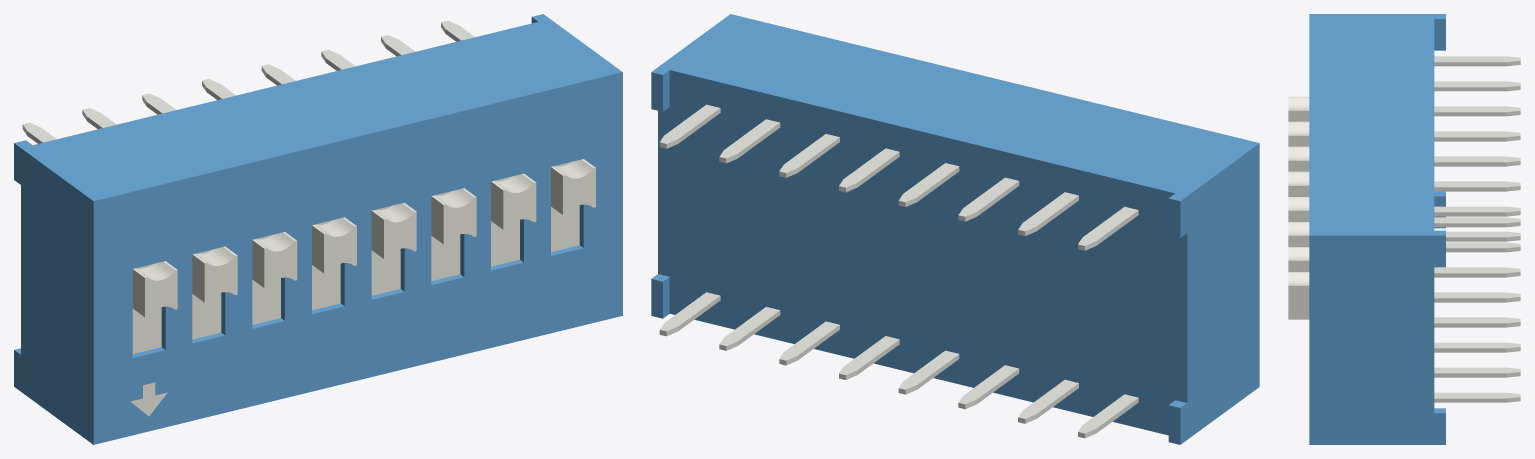
Rendered from SW_DIP_SPSTx08_Slide_9.78x22.5mm_W7.62mm_P2.54mm.glb.
3 renders of one model, left to right at view 1: azimuth 30°, elevation 25°; view 2: azimuth 150°, elevation 25°; view 3: azimuth 270°, elevation 25°, orthographic. The views are drawn at different scales.
Visible parts, largest first — view 1: Shape_IndexedFaceSet.079, Shape_IndexedFaceSet.008, Shape_IndexedFaceSet.011, Shape_IndexedFaceSet.237, Shape_IndexedFaceSet.210, Shape_IndexedFaceSet.235, Shape_IndexedFaceSet.195, Shape_IndexedFaceSet.205, Shape_IndexedFaceSet.216, Shape_IndexedFaceSet.225, Shape_IndexedFaceSet.219, Shape_IndexedFaceSet.202 (+7 smaller); view 2: Shape_IndexedFaceSet.003, Shape_IndexedFaceSet.008, Shape_IndexedFaceSet.011, Shape_IndexedFaceSet.023, Shape_IndexedFaceSet.056, Shape_IndexedFaceSet.014, Shape_IndexedFaceSet.040, Shape_IndexedFaceSet.049, Shape_IndexedFaceSet.063, Shape_IndexedFaceSet.026, Shape_IndexedFaceSet.035, Shape_IndexedFaceSet.044 (+7 smaller); view 3: Shape_IndexedFaceSet.008, Shape_IndexedFaceSet.005, Shape_IndexedFaceSet.172, Shape_IndexedFaceSet.014, Shape_IndexedFaceSet.021, Shape_IndexedFaceSet.023, Shape_IndexedFaceSet.033, Shape_IndexedFaceSet.035, Shape_IndexedFaceSet.040, Shape_IndexedFaceSet.044, Shape_IndexedFaceSet.049, Shape_IndexedFaceSet.051 (+39 smaller).
Part boxes in pixels (x1,y1,x2,y2): Shape_IndexedFaceSet.079: (93,72,622,444); Shape_IndexedFaceSet.008: (14,14,622,201); Shape_IndexedFaceSet.011: (14,143,93,444); Shape_IndexedFaceSet.237: (192,293,221,339); Shape_IndexedFaceSet.210: (371,249,400,295); Shape_IndexedFaceSet.235: (132,307,161,353); Shape_IndexedFaceSet.195: (431,234,460,281); Shape_IndexedFaceSet.205: (491,220,519,266); Shape_IndexedFaceSet.216: (252,278,280,324); Shape_IndexedFaceSet.225: (551,205,579,251); Shape_IndexedFaceSet.219: (312,263,340,310); Shape_IndexedFaceSet.202: (503,182,536,229); Shape_IndexedFaceSet.003: (658,70,1187,435); Shape_IndexedFaceSet.008: (651,14,1259,201); Shape_IndexedFaceSet.011: (1180,143,1259,444); Shape_IndexedFaceSet.023: (719,119,779,158); Shape_IndexedFaceSet.056: (899,350,958,389); Shape_IndexedFaceSet.014: (839,148,899,187); Shape_IndexedFaceSet.040: (779,321,839,360); Shape_IndexedFaceSet.049: (958,177,1018,216); Shape_IndexedFaceSet.063: (1078,206,1138,245); Shape_IndexedFaceSet.026: (660,104,719,143); Shape_IndexedFaceSet.035: (719,307,779,345); Shape_IndexedFaceSet.044: (839,336,899,375); Shape_IndexedFaceSet.008: (1309,14,1445,235); Shape_IndexedFaceSet.005: (1309,235,1445,444); Shape_IndexedFaceSet.172: (1288,285,1309,319); Shape_IndexedFaceSet.014: (1434,156,1520,162); Shape_IndexedFaceSet.021: (1434,181,1520,187); Shape_IndexedFaceSet.023: (1434,206,1520,212); Shape_IndexedFaceSet.033: (1434,392,1520,398); Shape_IndexedFaceSet.035: (1434,367,1520,373); Shape_IndexedFaceSet.040: (1434,342,1520,348); Shape_IndexedFaceSet.044: (1434,317,1520,323); Shape_IndexedFaceSet.049: (1434,106,1520,112); Shape_IndexedFaceSet.051: (1434,131,1520,137).
Bounding box in the file's own units: 8.86 × 3.9 × 3.92.
